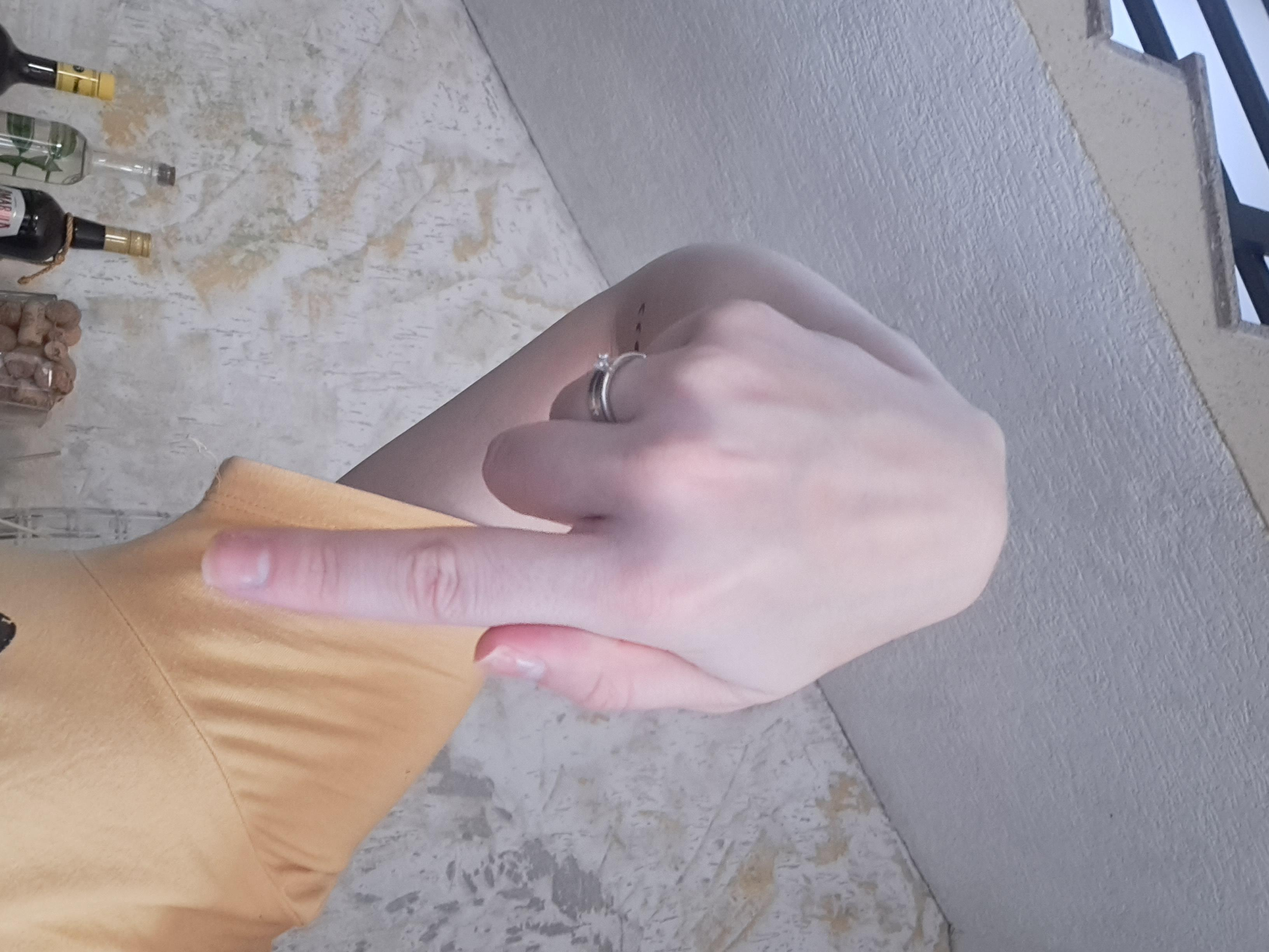Q: (399, 192, 949, 822)
